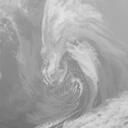cyclone: (41, 44, 100, 104)
